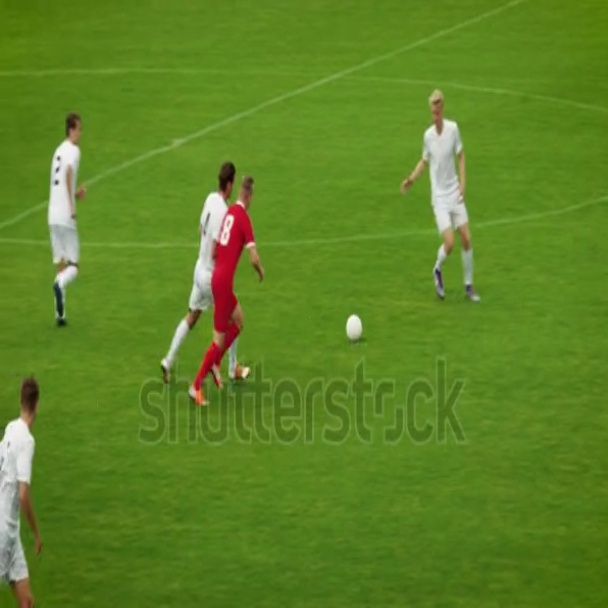ball: (347, 312, 365, 348)
